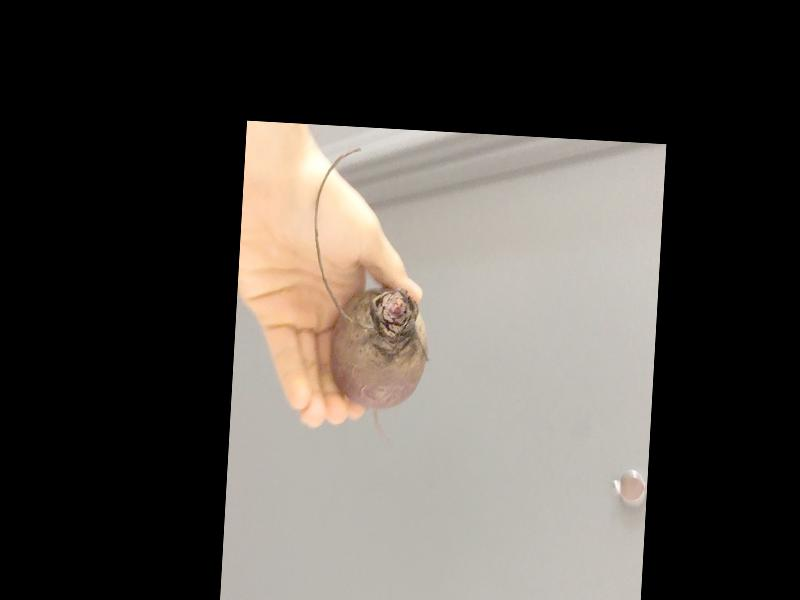Beet: (301, 146, 438, 442)
